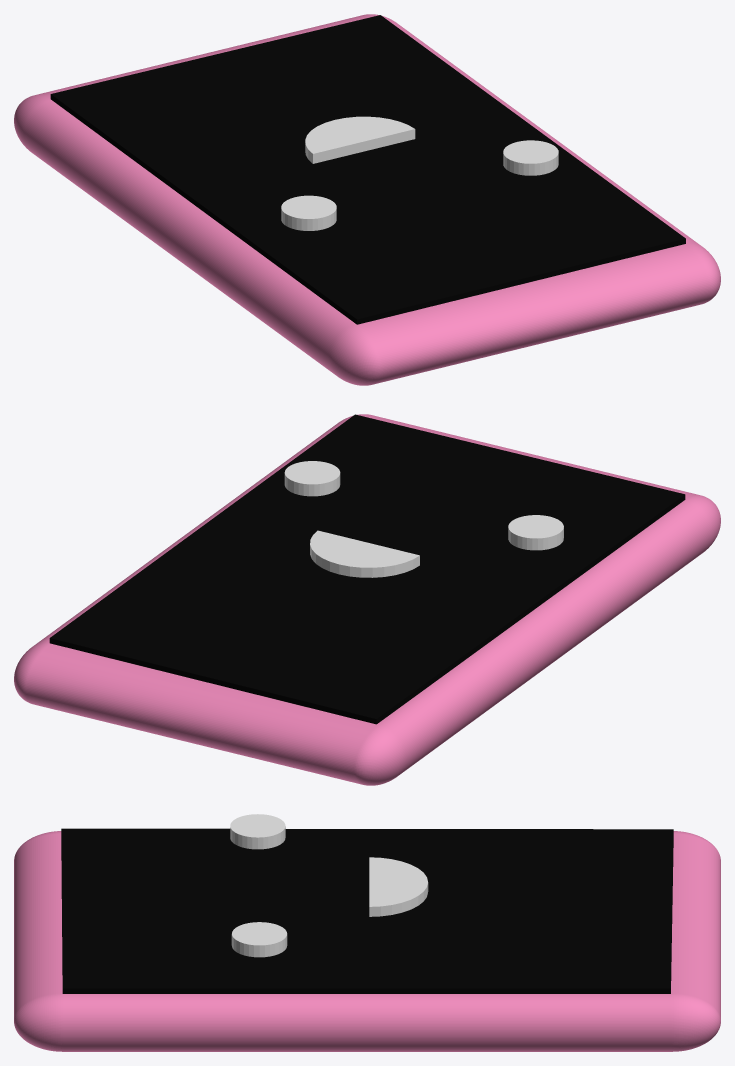
Rendered from pPhone.fbx.
The picture shows the model from 3 angles, top to bottom: view 1: azimuth 30°, elevation 25°; view 2: azimuth 150°, elevation 25°; view 3: azimuth 270°, elevation 25°; orthographic projection.
Visible parts, largest first — view 1: PinkScreen, PinkPhone, PinkFace; view 2: PinkScreen, PinkPhone, PinkFace; view 3: PinkScreen, PinkPhone, PinkFace.
Boxes of the visible parts, <box> form: PinkScreen: <box>50,15,685,324</box>; PinkPhone: <box>14,14,720,385</box>; PinkFace: <box>281,116,558,230</box>; PinkScreen: <box>49,414,685,724</box>; PinkPhone: <box>14,414,720,785</box>; PinkFace: <box>284,461,563,577</box>; PinkScreen: <box>61,828,673,993</box>; PinkPhone: <box>14,831,720,1051</box>; PinkFace: <box>230,814,428,957</box>.
Size of the model in its own units: 99.37 by 23.83 by 160.
